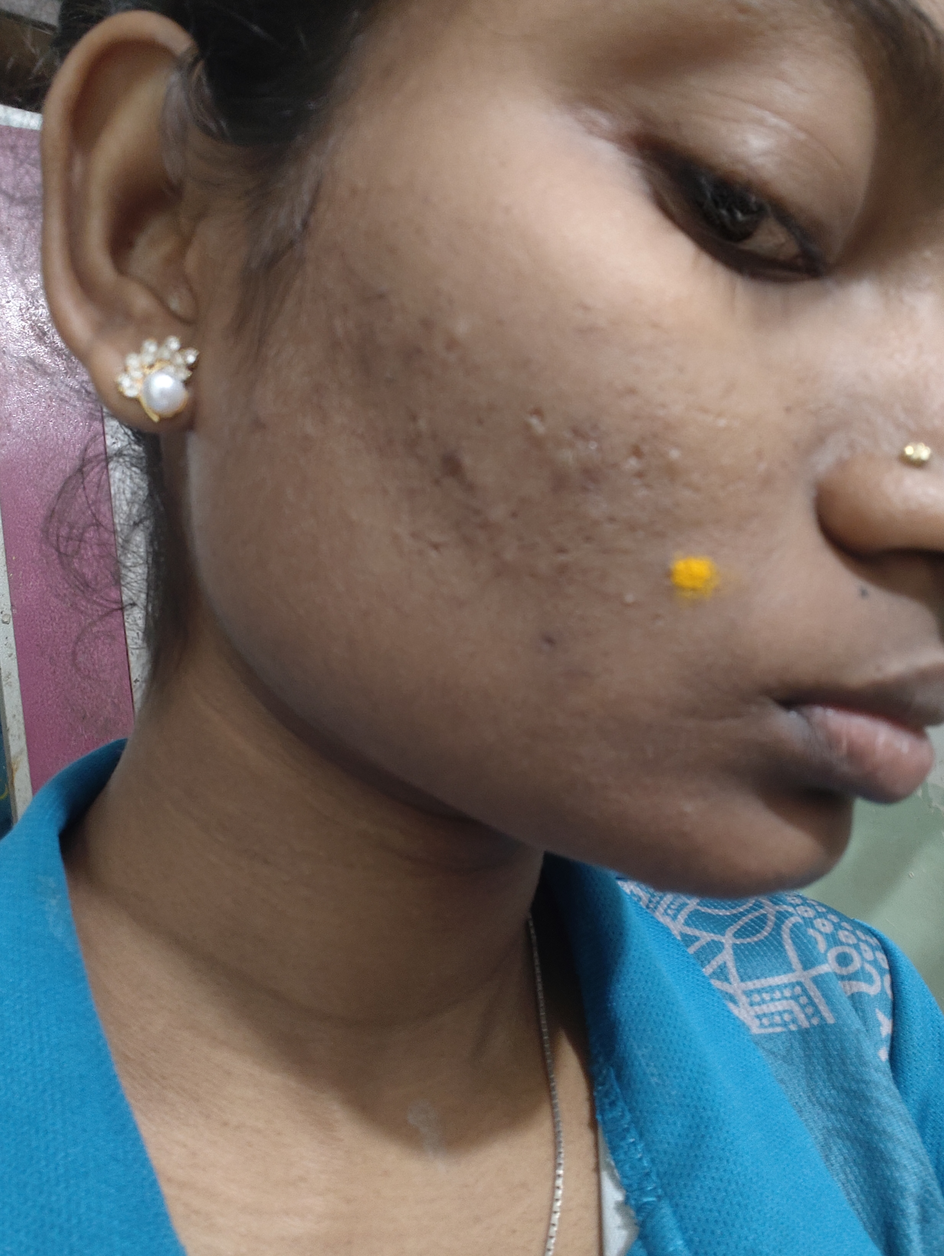closed_comedone: (581, 773, 630, 810)
macrocomedone: (447, 321, 469, 347), (497, 545, 520, 567), (662, 450, 684, 472), (622, 593, 637, 605)
